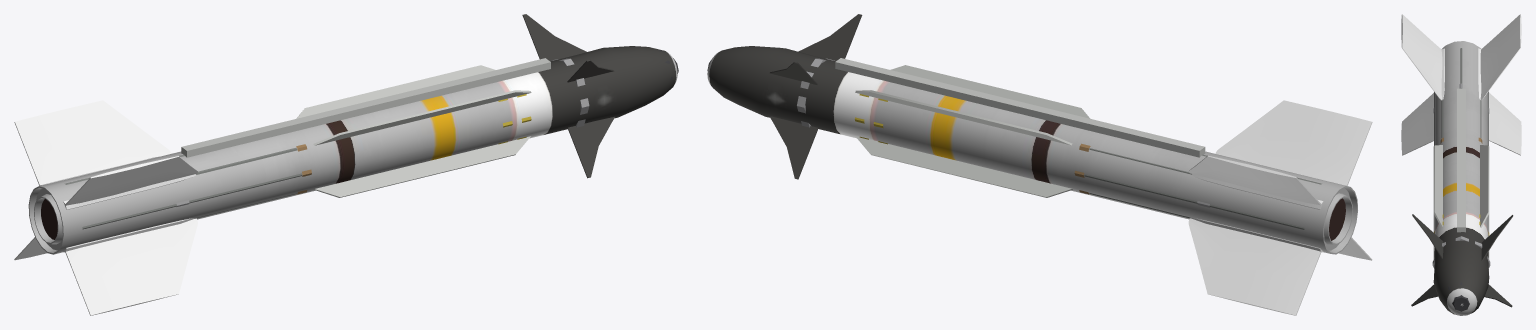
The model's file is srm_3.glb.
3 renders of one model, left to right at view 1: azimuth 30°, elevation 25°; view 2: azimuth 150°, elevation 25°; view 3: azimuth 270°, elevation 25°, orthographic. The views are drawn at different scales.
Visible parts, largest first — view 1: srm_3; view 2: srm_3; view 3: srm_3.
Part boxes in pixels (left/top/right/bottom): srm_3: left=14, top=14, right=678, bottom=315; srm_3: left=707, top=14, right=1372, bottom=315; srm_3: left=1401, top=14, right=1521, bottom=315.
Size of the model in its own units: 1 by 0.2134 by 0.2134.
7 materials, 1 textured.
